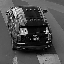mobil: (5, 4, 54, 51)
